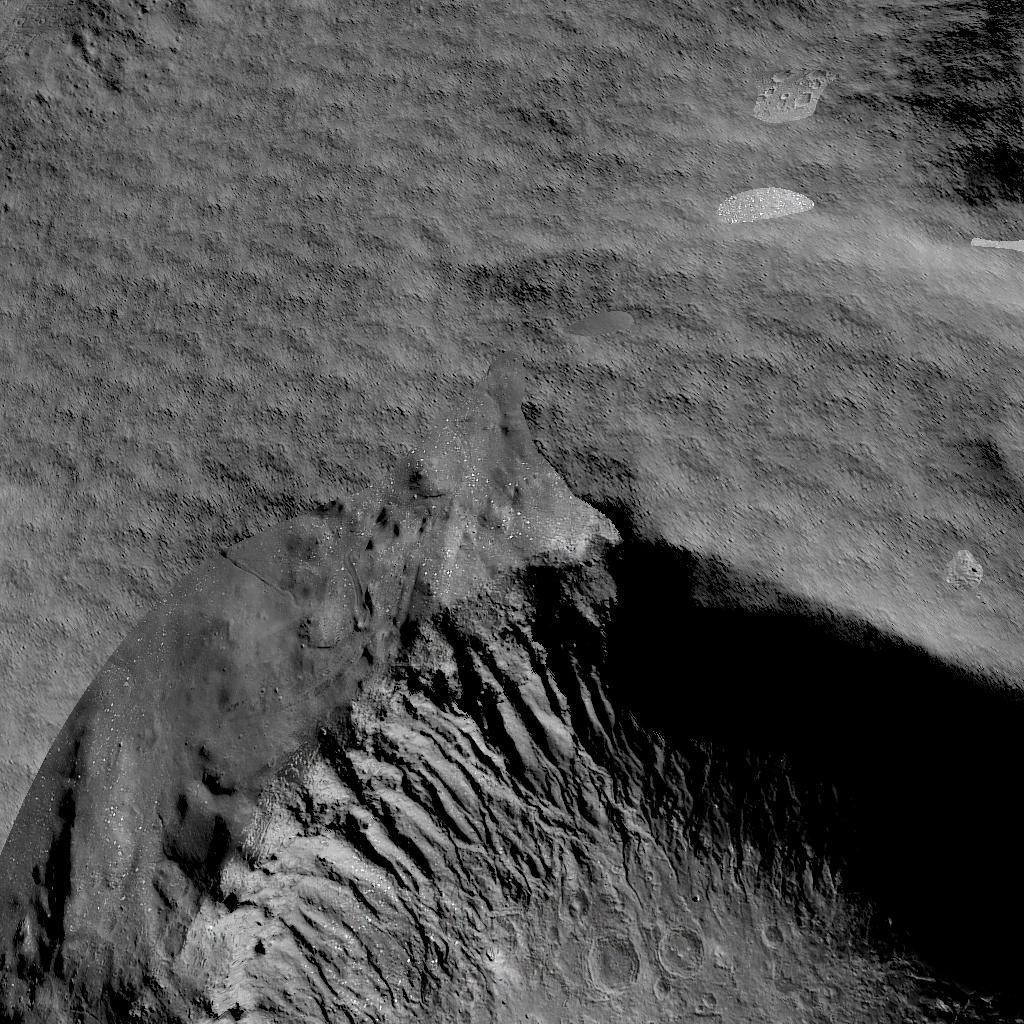Boulders: (0, 2, 232, 210)
Crater: (0, 419, 1024, 1024), (885, 29, 1024, 237)
Plan surface: (0, 234, 796, 381), (270, 0, 818, 189)
